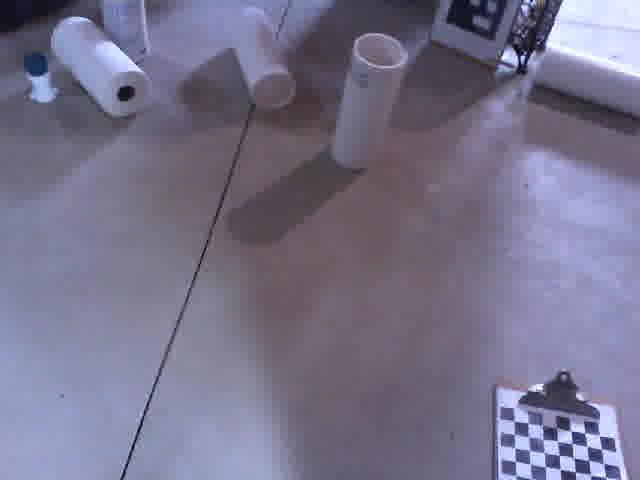coral: (324, 27, 415, 173), (221, 3, 302, 116), (529, 44, 640, 123)
